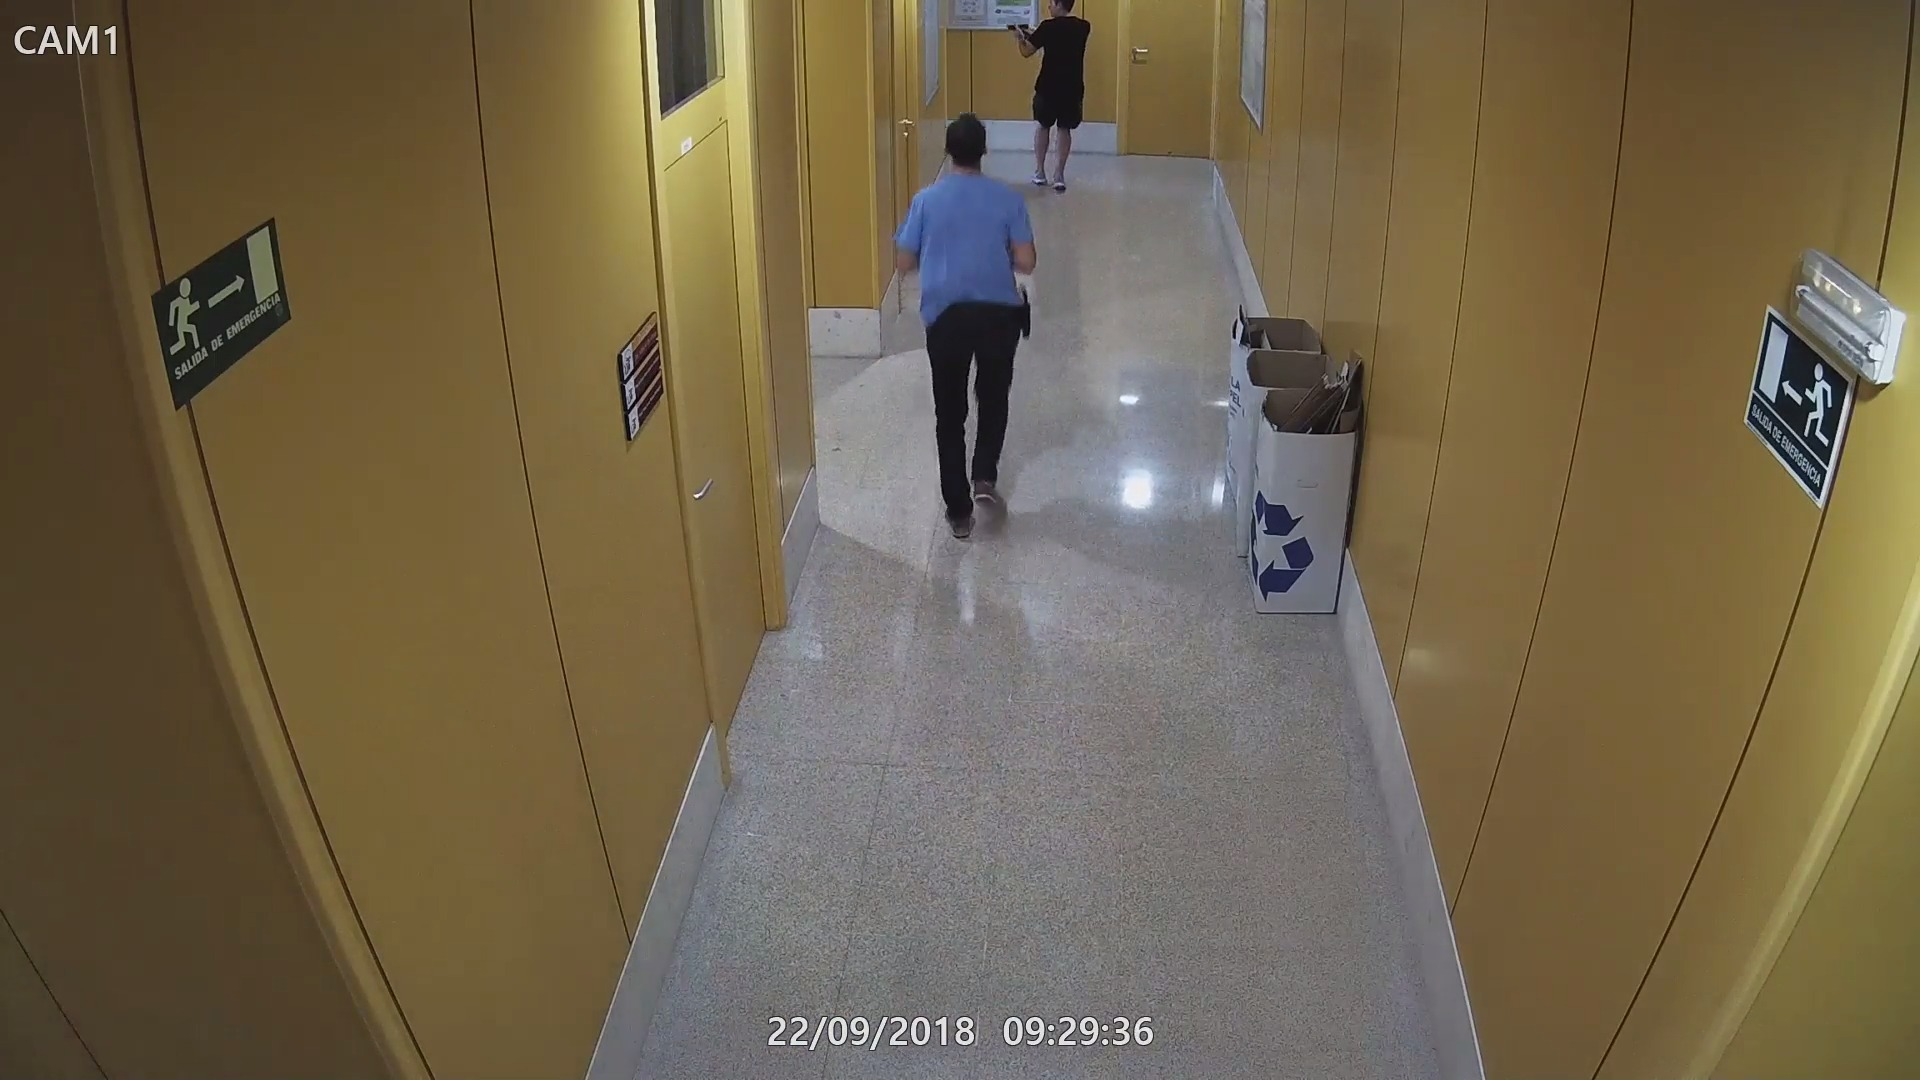pistol: (1004, 15, 1031, 41)
